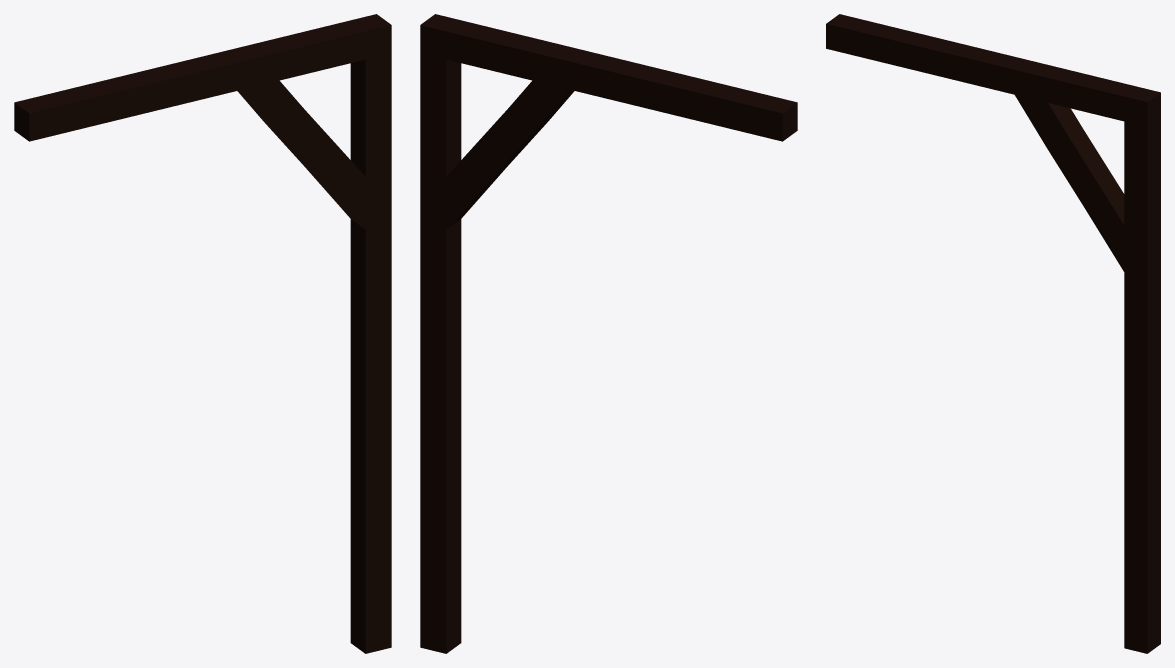
The model's file is 3D_ENVHAZ_TRAINPOLE1.FBX.
3 views of the same model, side by side, from view 1: azimuth 30°, elevation 25°; view 2: azimuth 150°, elevation 25°; view 3: azimuth 330°, elevation 25° (orthographic). The views are drawn at different scales.
Parts seen in each view (by area): view 1: Box001; view 2: Box001; view 3: Box001.
Boxes of the visible parts, x1,y1,x2,y2 form: Box001: (14, 14, 391, 653); Box001: (420, 14, 797, 653); Box001: (826, 14, 1160, 653).
Size of the model in its own units: 4.85 by 7.96 by 0.35.
